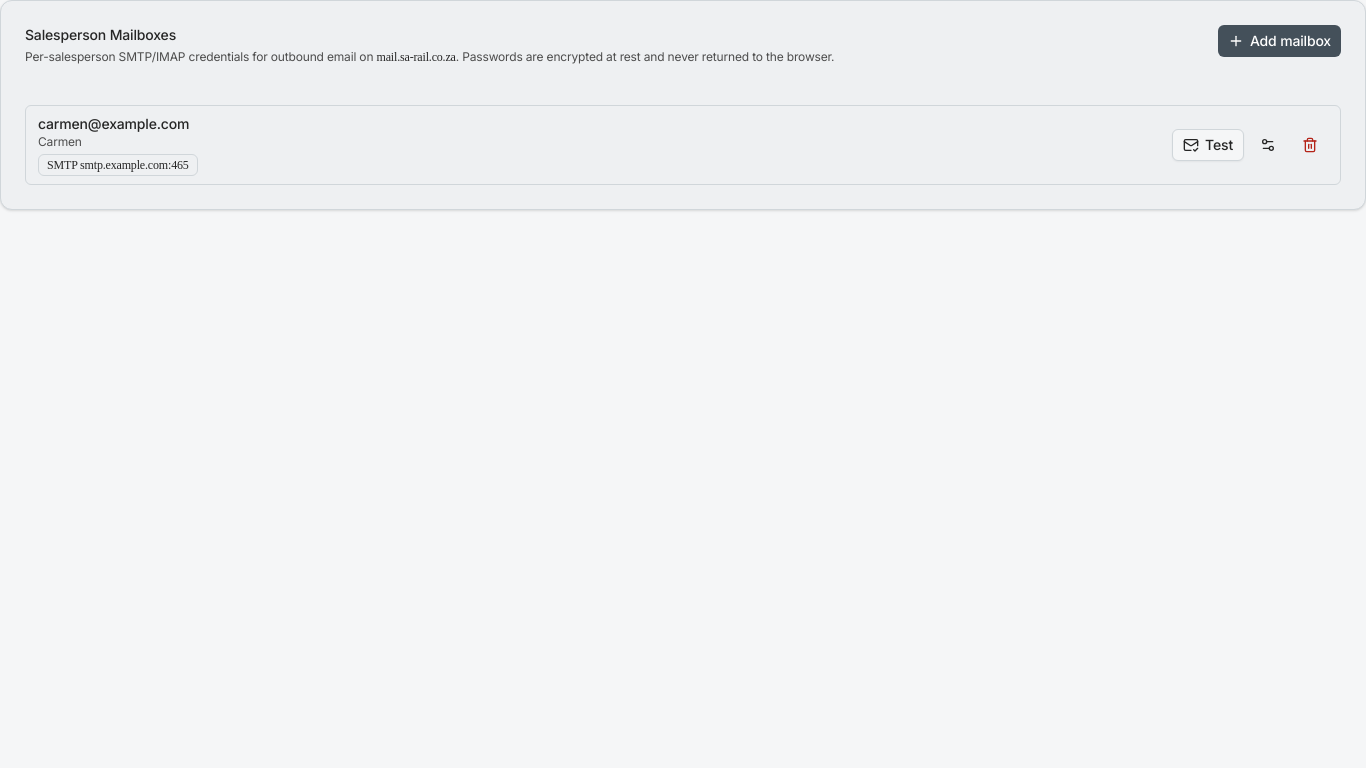
Test: SalespersonCredentialsSettings › sends an admin's edit with the mailbox fields
Later steps or results of the test are not shown.
Click the button named "Edit mailbox" at (1268,145), box [1250,127,1286,163]
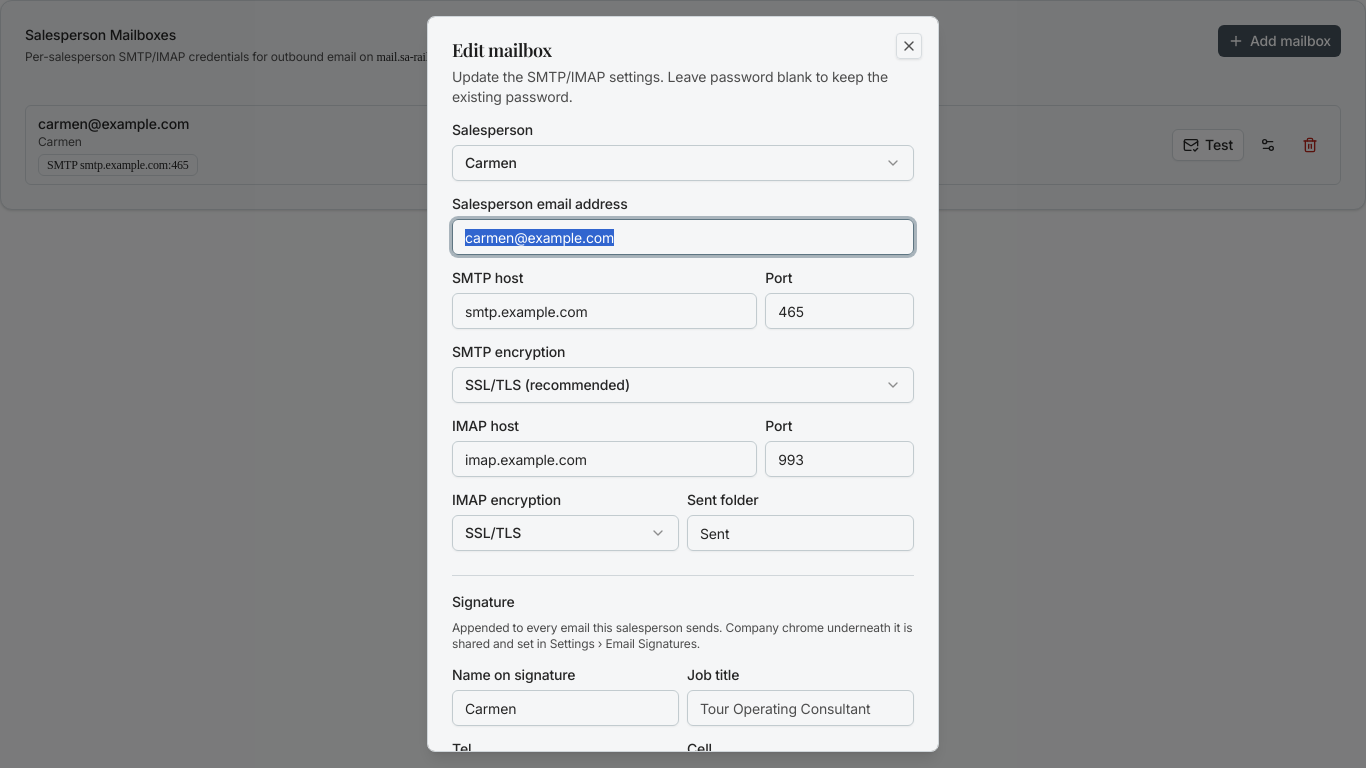
Expected: the field labelled "SMTP host" is enabled, [452,293,757,329]
